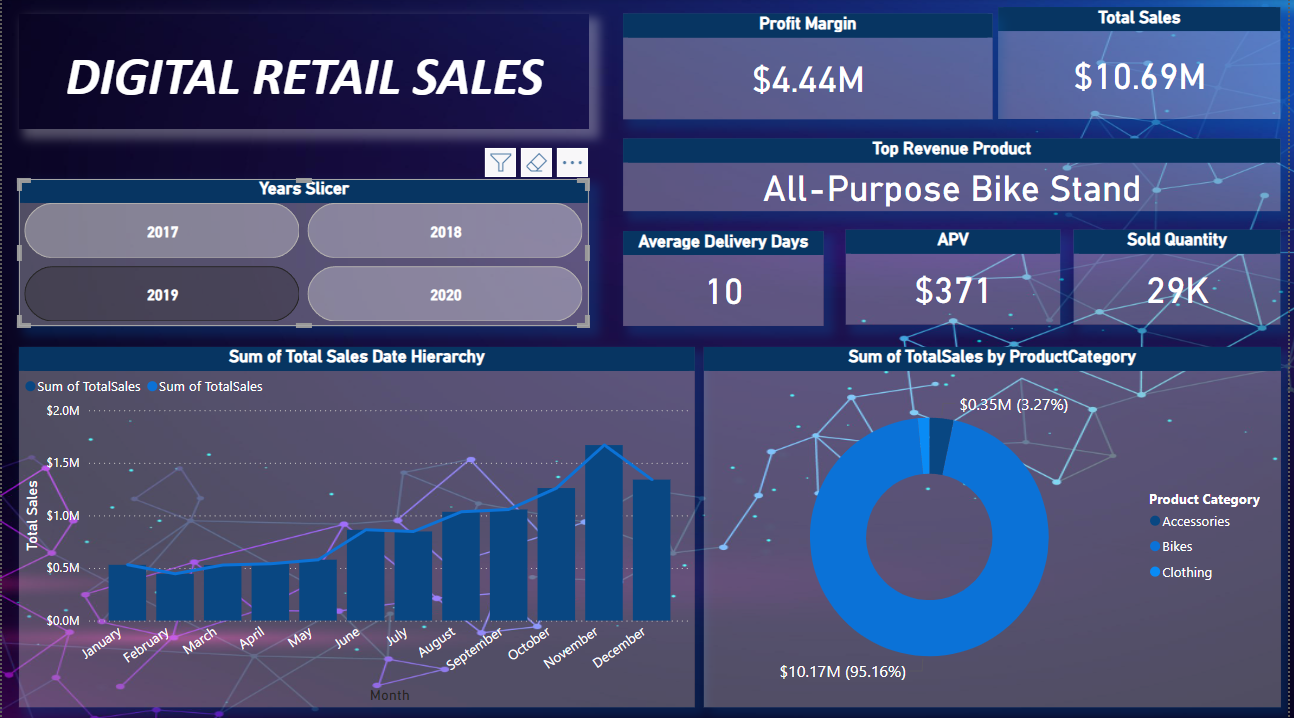

This screenshot's page, from the dashboard's own definition file:
{"tool":"powerbi","page":{"name":"Main Dashboard","canvas":[1280,720],"ordinal":0},"visuals":[{"type":"lineClusteredColumnComboChart","title":"Sum of Total Sales Date Hierarchy","fields":{"Category":["Sales.OrderDate.Variation.Date Hierarchy.Year","Sales.OrderDate.Variation.Date Hierarchy.Quarter","Sales.OrderDate.Variation.Date Hierarchy.Month","Sales.OrderDate.Variation.Date Hierarchy.Day"],"Y":["Sum(Sales.TotalSales)"],"Y2":["Sum(Sales.TotalSales)"]},"box":[16.8,347.3,672.7,359],"z":0},{"type":"card","title":"Average Delivery Days","fields":{"Values":["_Measures.AverageDelivery_Days"]},"box":[618.2,232,199.6,94.6],"z":1000},{"type":"card","title":"Total Sales","fields":{"Values":["Sum(Sales.TotalSales)"]},"box":[991.9,9.2,281.2,111.7],"z":2000},{"type":"card","title":"Top Revenue Product","fields":{"Values":["Sales.TopSellingProduct"]},"box":[618.2,140,654.5,72.6],"z":3000},{"type":"card","title":"Profit Margin","fields":{"Values":["Sum(Sales.ProfitMargin)"]},"box":[618.8,15.8,367.9,105.1],"z":4000},{"type":"advancedSlicerVisual","title":"Years Slicer","fields":{"Values":["Sales.OrderDate.Variation.Date Hierarchy.Year"]},"box":[16.8,180.2,567.7,146.5],"z":5000},{"type":"donutChart","fields":{"Y":["Sum(Sales.TotalSales)"],"Series":["Sales.ProductCategory"]},"box":[698.6,347.3,574.2,359],"z":6000},{"type":"card","title":"Sold Quantity","fields":{"Values":["Sum(Sales.OrderQuantity)"]},"box":[1066.7,230.7,206.1,94.6],"z":7000},{"type":"card","title":"APV","fields":{"Values":["Avg(Sales.ItemPrice)"]},"box":[839.8,230.7,213.8,94.6],"z":8000},{"type":"card","fields":{"Values":["_Measures.Branding"]},"box":[16.8,15.6,567.7,114.1],"z":9000}]}

Visuals, with their boxes in screenshot pixels (x1, y1, x2, y2), scaled from the page's 1280x720 canvas onto the 1294x718 screenshot:
"Sum of Total Sales Date Hierarchy" lineClusteredColumnComboChart: 17:346:697:704
"Average Delivery Days" card: 625:231:827:326
"Total Sales" card: 1003:9:1287:121
"Top Revenue Product" card: 625:140:1287:212
"Profit Margin" card: 626:16:997:121
"Years Slicer" advancedSlicerVisual: 17:180:591:326
donutChart - Sum(Sales.TotalSales) x Sales.ProductCategory: 706:346:1287:704
"Sold Quantity" card: 1078:230:1287:324
"APV" card: 849:230:1065:324
card - _Measures.Branding: 17:16:591:129
